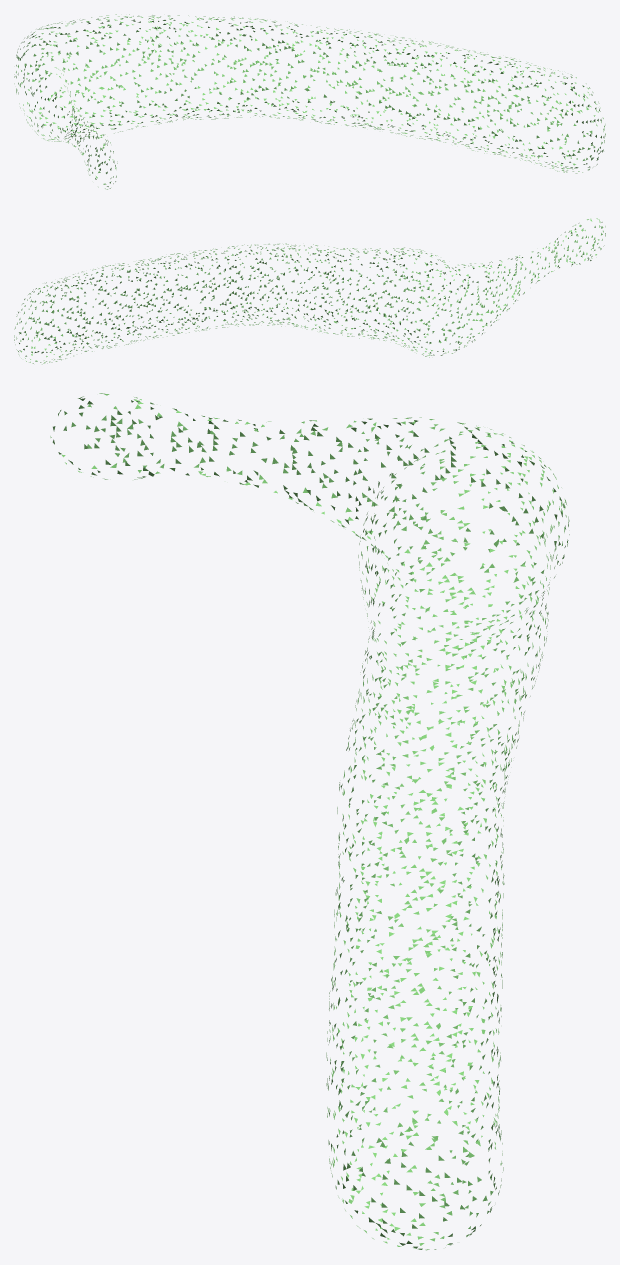
File: morph_016.glb
The picture shows the model from 3 angles, top to bottom: view 1: azimuth 30°, elevation 25°; view 2: azimuth 150°, elevation 25°; view 3: azimuth 270°, elevation 25°; orthographic projection. The views are drawn at different scales.
Bounding box in the file's own units: 133 × 53.4 × 60.68.
